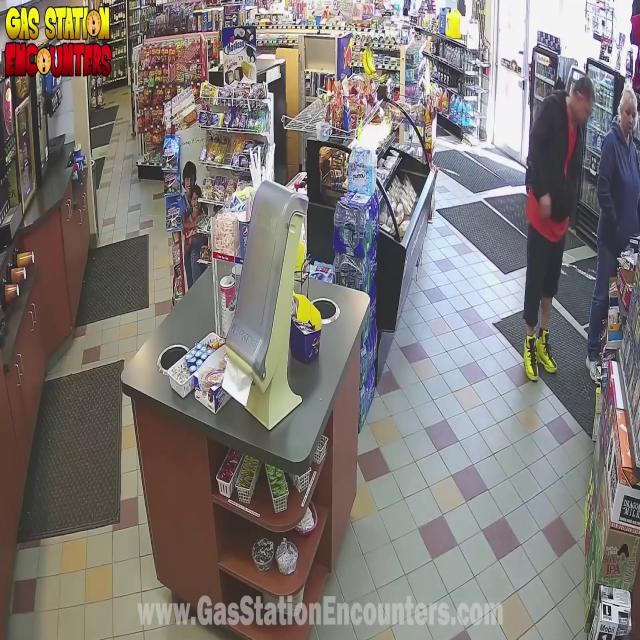normal: (500, 39, 586, 385), (590, 74, 640, 386)
